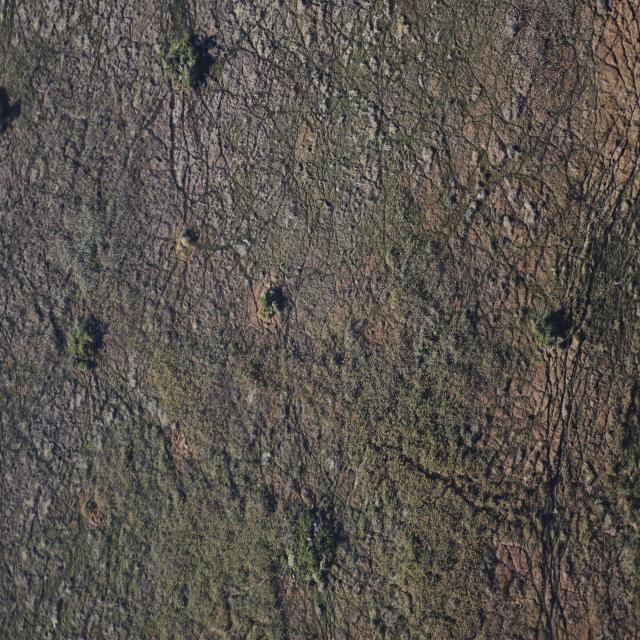elephant: (292, 574, 296, 583), (306, 536, 312, 540), (292, 568, 296, 572)
